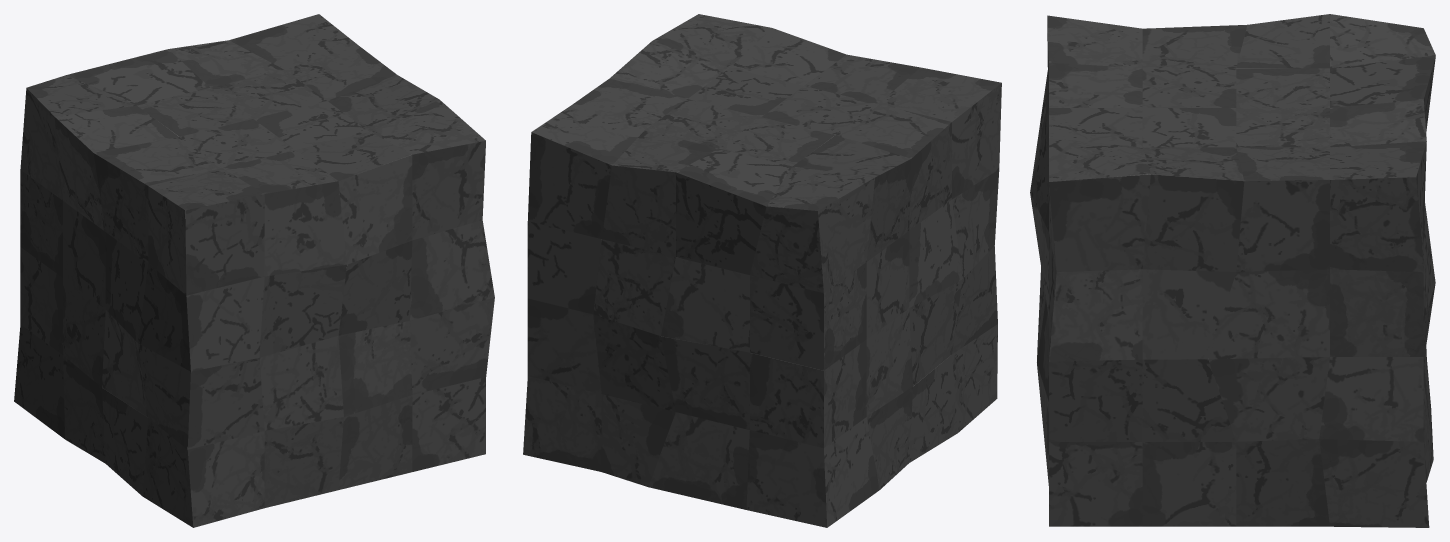
The model's file is block1.fbx.
3 renders of one model, left to right at view 1: azimuth 30°, elevation 25°; view 2: azimuth 150°, elevation 25°; view 3: azimuth 270°, elevation 25°, orthographic. The views are drawn at different scales.
Visible parts, largest first — view 1: Cube; view 2: Cube; view 3: Cube.
Boxes of the visible parts, x1,y1,x2,y2 form: Cube: [14, 14, 494, 527]; Cube: [523, 14, 1001, 527]; Cube: [1030, 14, 1435, 527].
Size of the model in its own units: 6817 by 6641 by 6930.
1 material, 1 textured.
